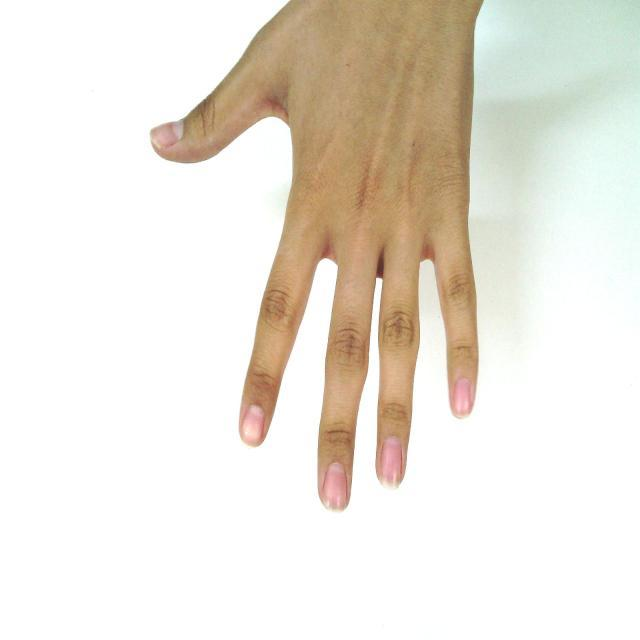Fingernail: (323, 463, 346, 511), (381, 437, 402, 489), (243, 405, 263, 443), (151, 122, 181, 147), (453, 377, 471, 417)
